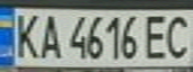1: (103, 12, 124, 60)
4: (63, 11, 87, 60)
6: (118, 12, 145, 61), (84, 12, 106, 61)
A: (36, 10, 63, 60)
C: (160, 11, 193, 60)
E: (142, 11, 172, 61)
K: (9, 10, 42, 60)
